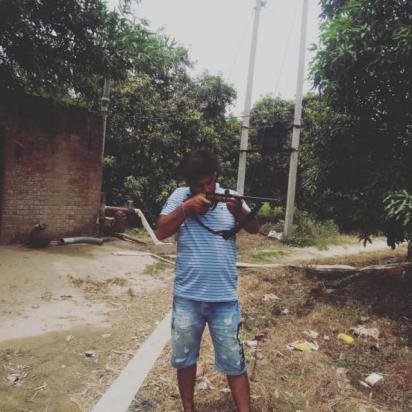Gun: (182, 187, 282, 213)
